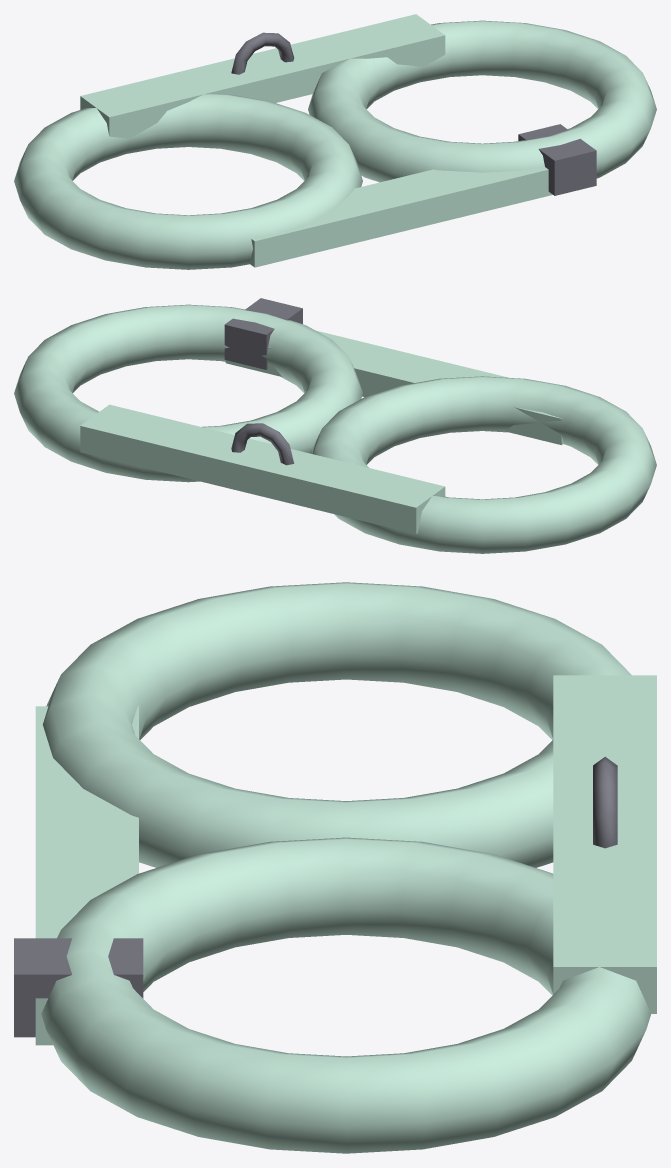
The model's file is companion-animals-and-pet-home-harness-2418a0ca__20665.glb.
3 views of the same model, one above another, from view 1: azimuth 30°, elevation 25°; view 2: azimuth 150°, elevation 25°; view 3: azimuth 270°, elevation 25° (orthographic). The views are drawn at different scales.
Visible parts, largest first — view 1: harness; view 2: harness; view 3: harness.
Boxes of the visible parts, left/top/right/bottom form: harness: left=14, top=14, right=656, bottom=269; harness: left=14, top=298, right=656, bottom=553; harness: left=14, top=582, right=656, bottom=1153.
Size of the model in its own units: 0.284 by 0.039 by 0.149.
